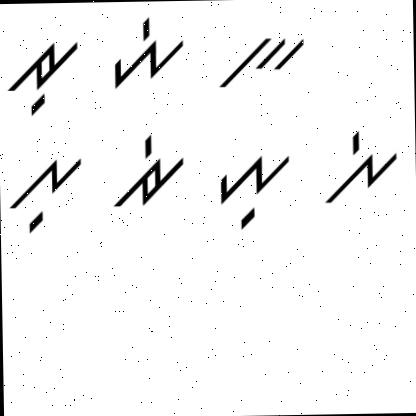le: (322, 126, 405, 210)
lu: (5, 147, 86, 235)
re: (112, 132, 187, 213)
ru: (5, 37, 83, 118)
ye: (109, 14, 189, 92)
yu: (212, 144, 296, 238)
